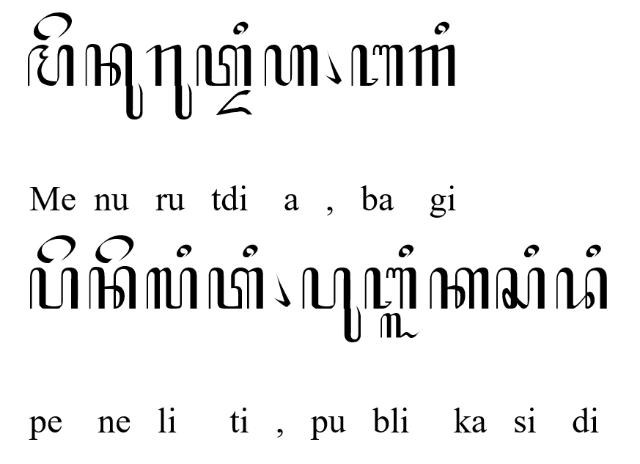_d: (215, 90, 252, 116)
_l: (380, 312, 420, 338)
b: (352, 44, 404, 88), (364, 266, 416, 310)
d: (556, 266, 608, 310)
e: (32, 11, 74, 41), (36, 233, 76, 264), (95, 234, 135, 264)
g: (409, 43, 456, 87)
h: (264, 43, 320, 87)
i: (434, 20, 450, 36), (242, 243, 258, 259), (524, 244, 540, 260), (175, 243, 192, 258), (396, 244, 414, 258), (585, 243, 601, 258), (232, 21, 248, 35)
k: (428, 266, 492, 310)
kom: (273, 272, 291, 308), (324, 51, 342, 85)
l: (145, 266, 197, 310)
m: (27, 44, 75, 88)
n: (88, 266, 138, 310)
nu: (84, 42, 144, 120)
p: (29, 266, 79, 310)
pu: (301, 266, 361, 342)
ru: (145, 44, 193, 120)
s: (495, 266, 547, 310)
t: (195, 43, 253, 87), (208, 266, 266, 310)
